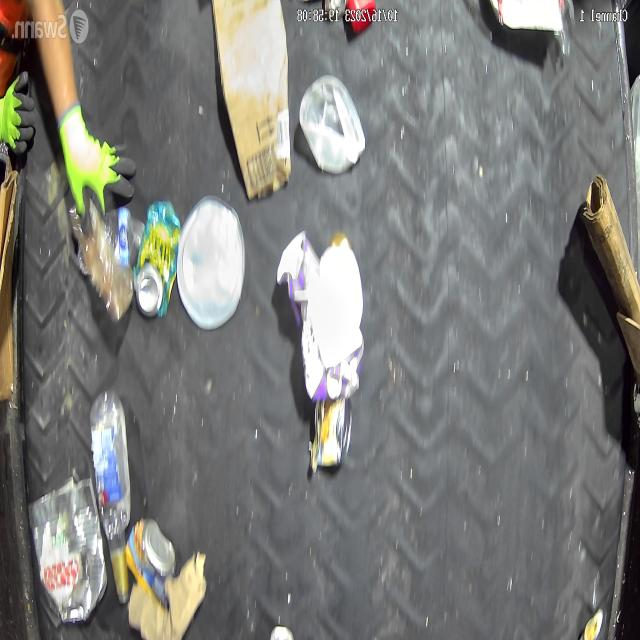can: (26, 477, 106, 640), (136, 194, 179, 335), (123, 518, 178, 606)
